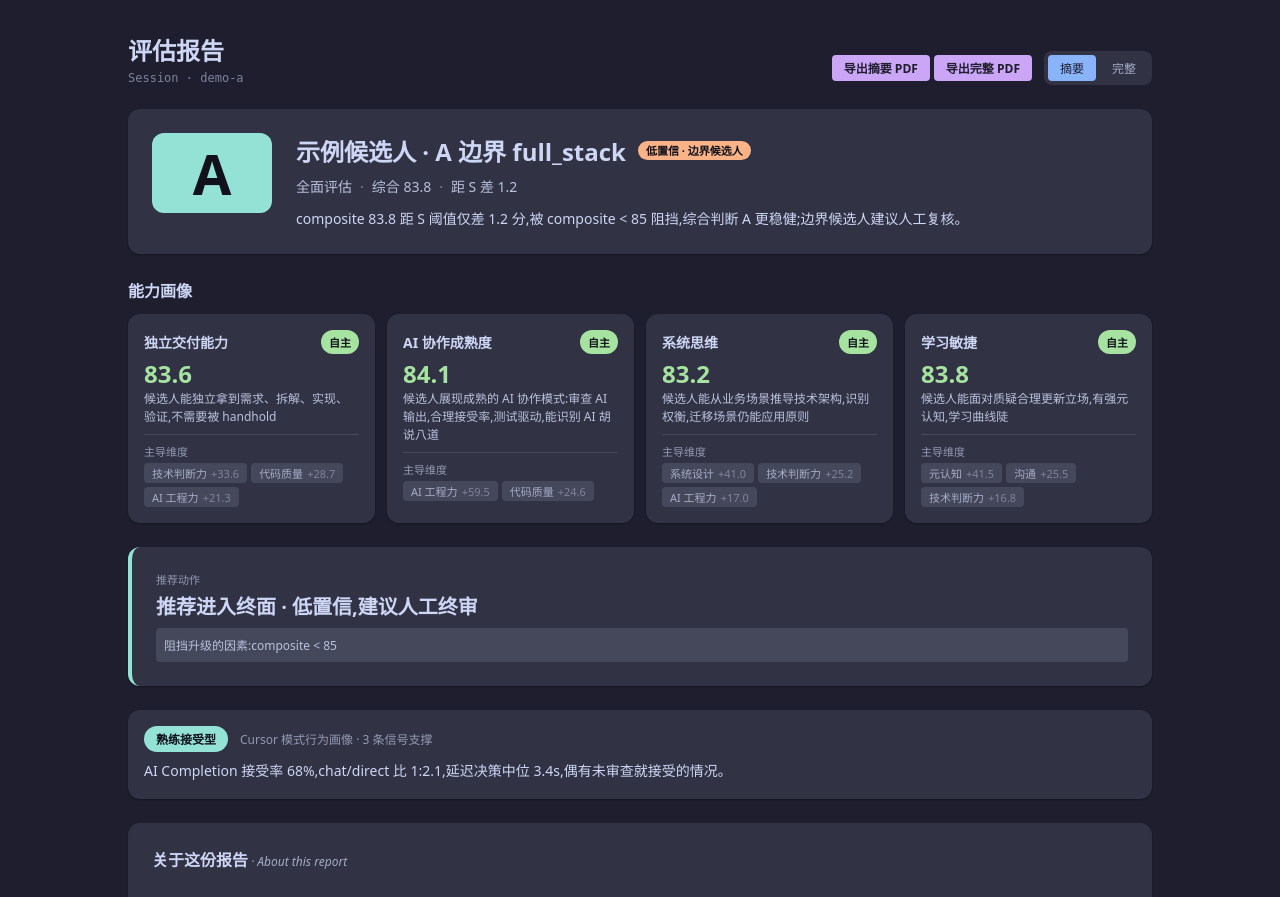
Test: <ReportViewPage /> PDF export › surfaces an error banner when exportLayerToPdf rejects
Click the button with test id "report-view-export-summary": (881, 68) [832,55,930,81]
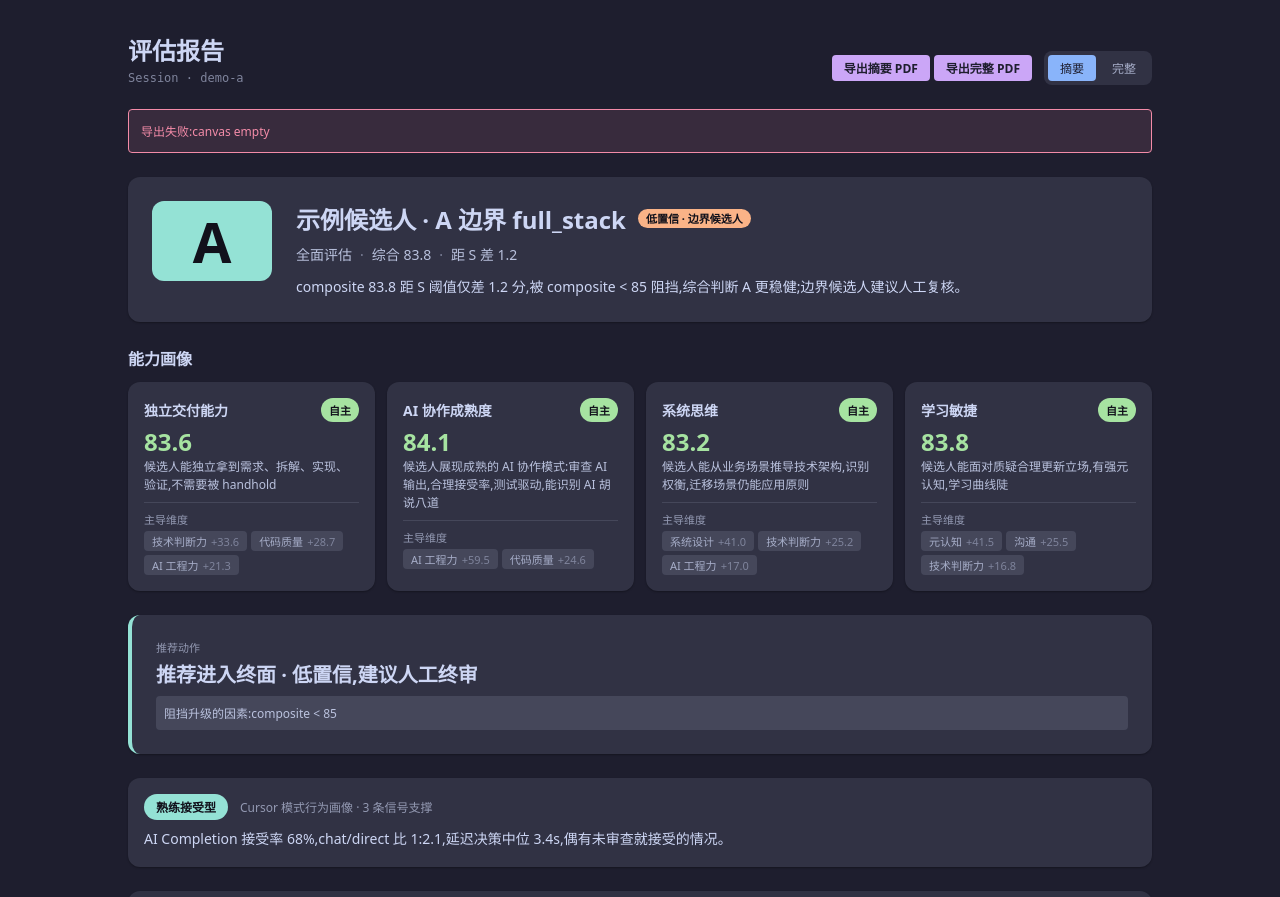
Now the text with test id "report-view-export-error" shows "canvas empty", box [192,123,270,140]
